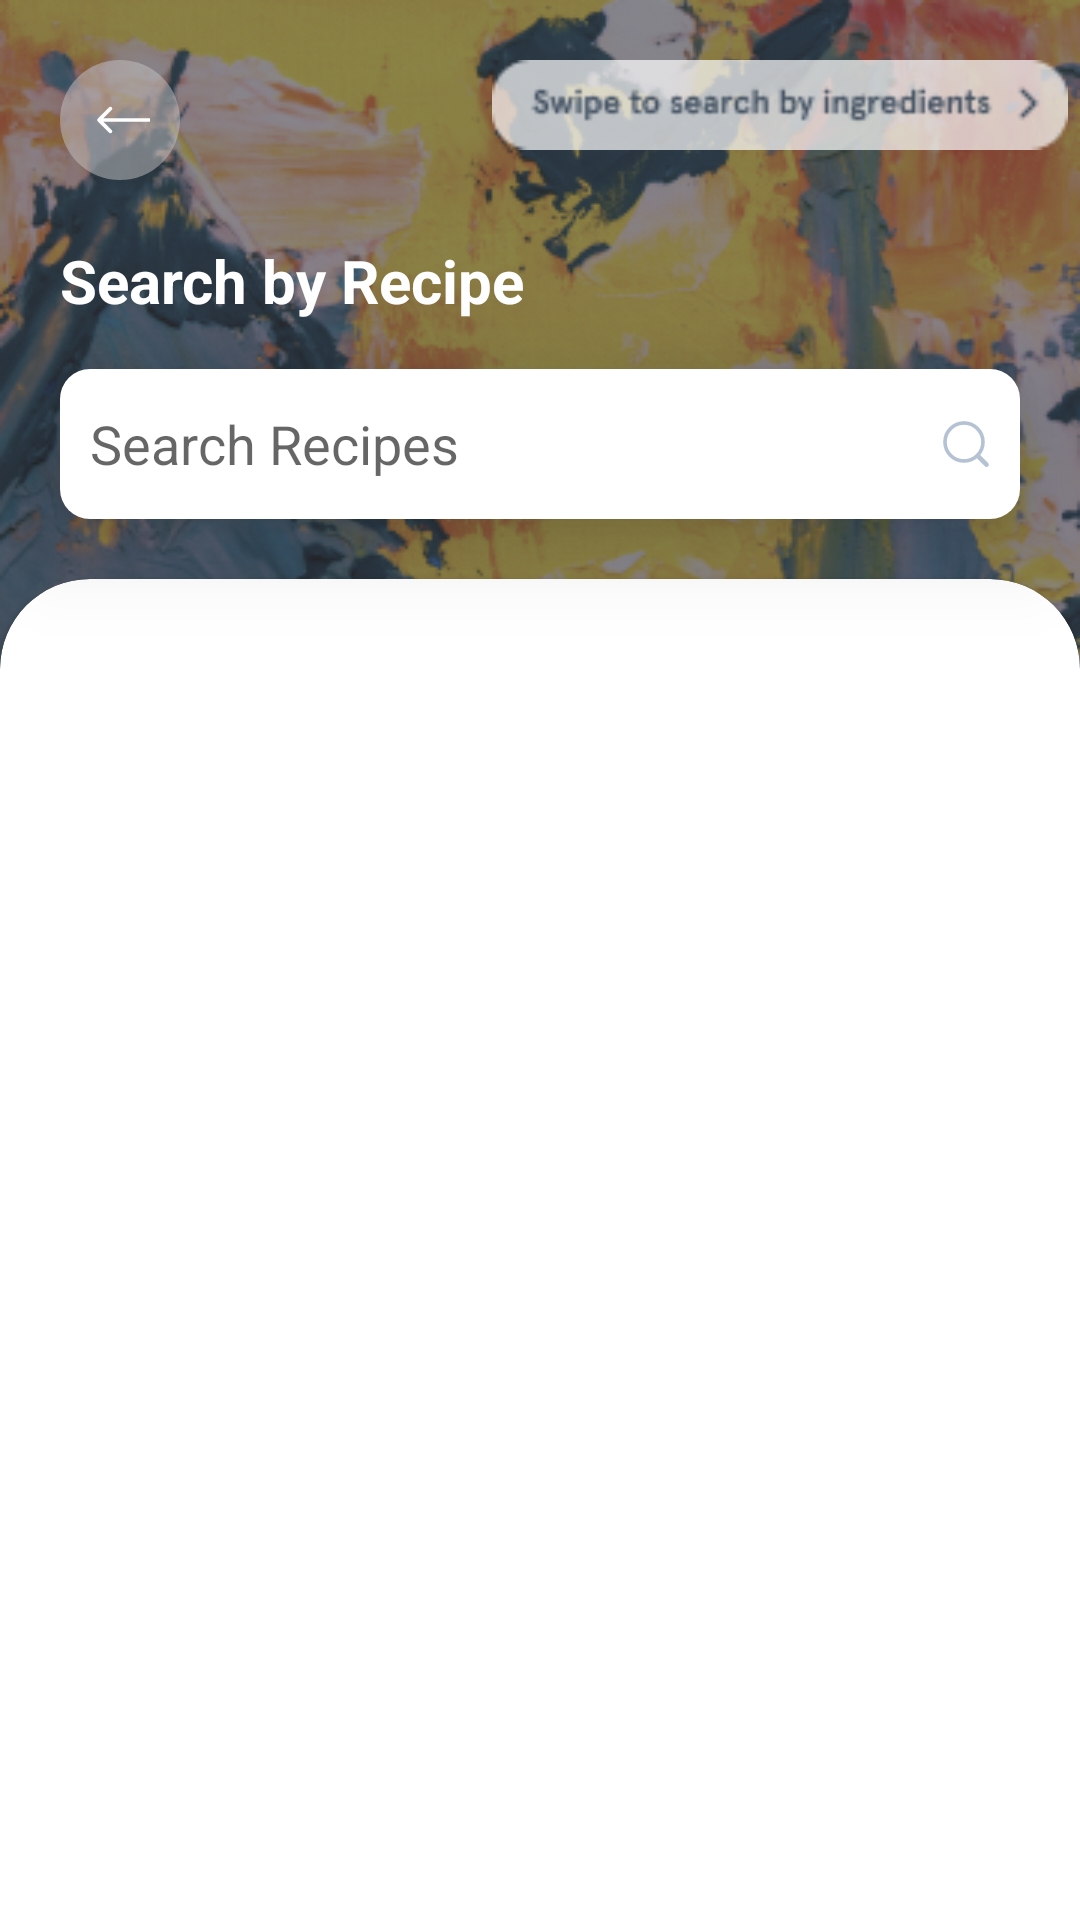

Point at icon controls on the screen. Image size 1080*1920, points as point (x, y).
back: point (120, 120)
